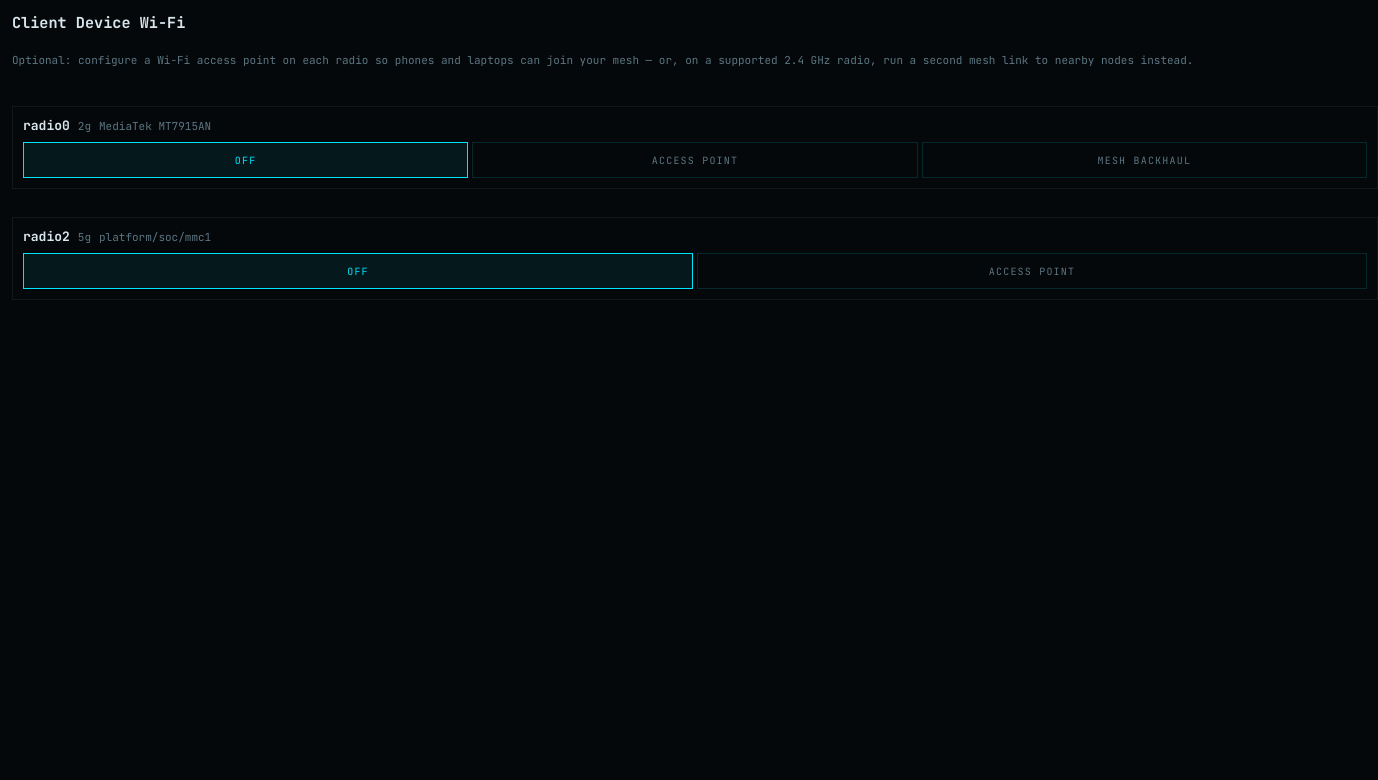
Test case: StepAPsBackhaulTuning › updates the footprint when the operator picks 20 MHz on channel 1
Click the radio button labelled "Mesh backhaul" at (1144,160), box x1=922 y1=142 x2=1367 y2=178
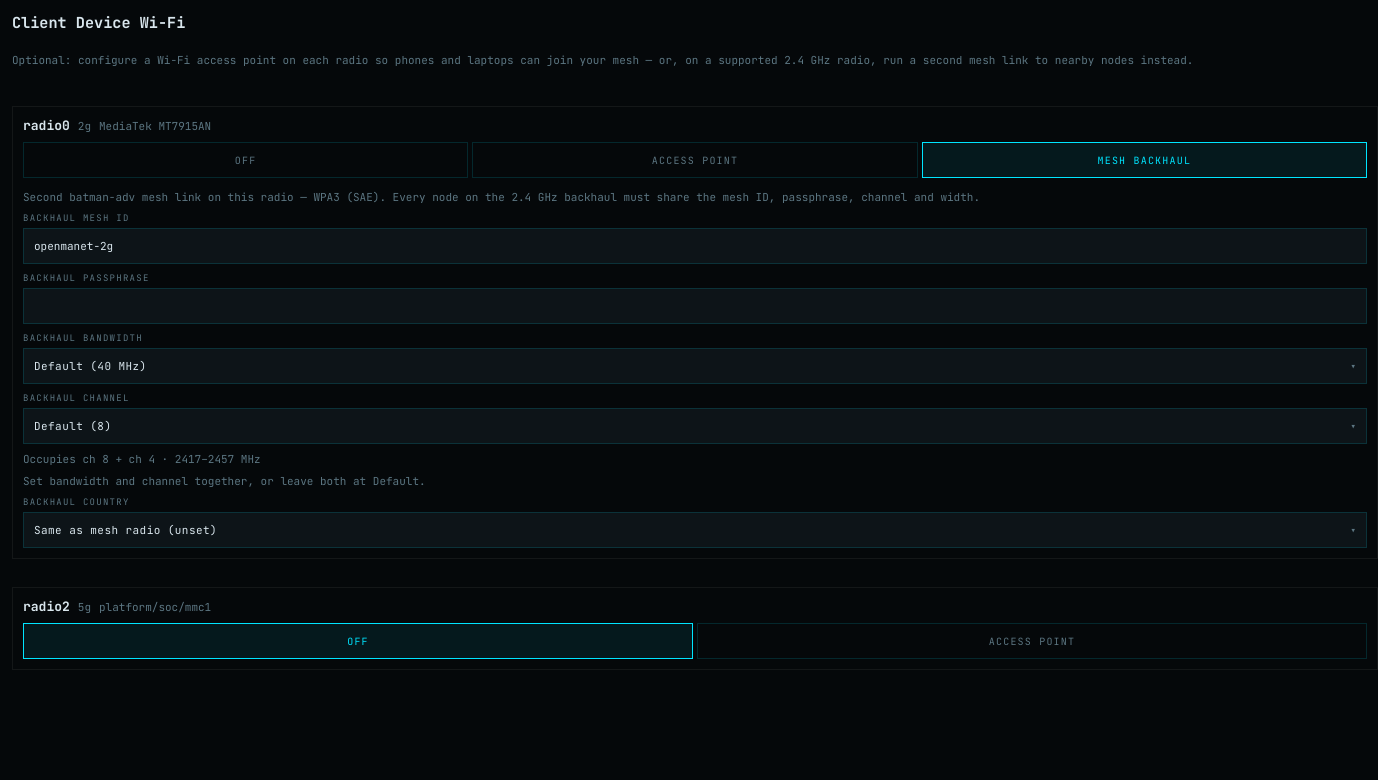
Click the button with aria-label "Backhaul bandwidth" at (90,366), box x1=23 y1=348 x2=1367 y2=384
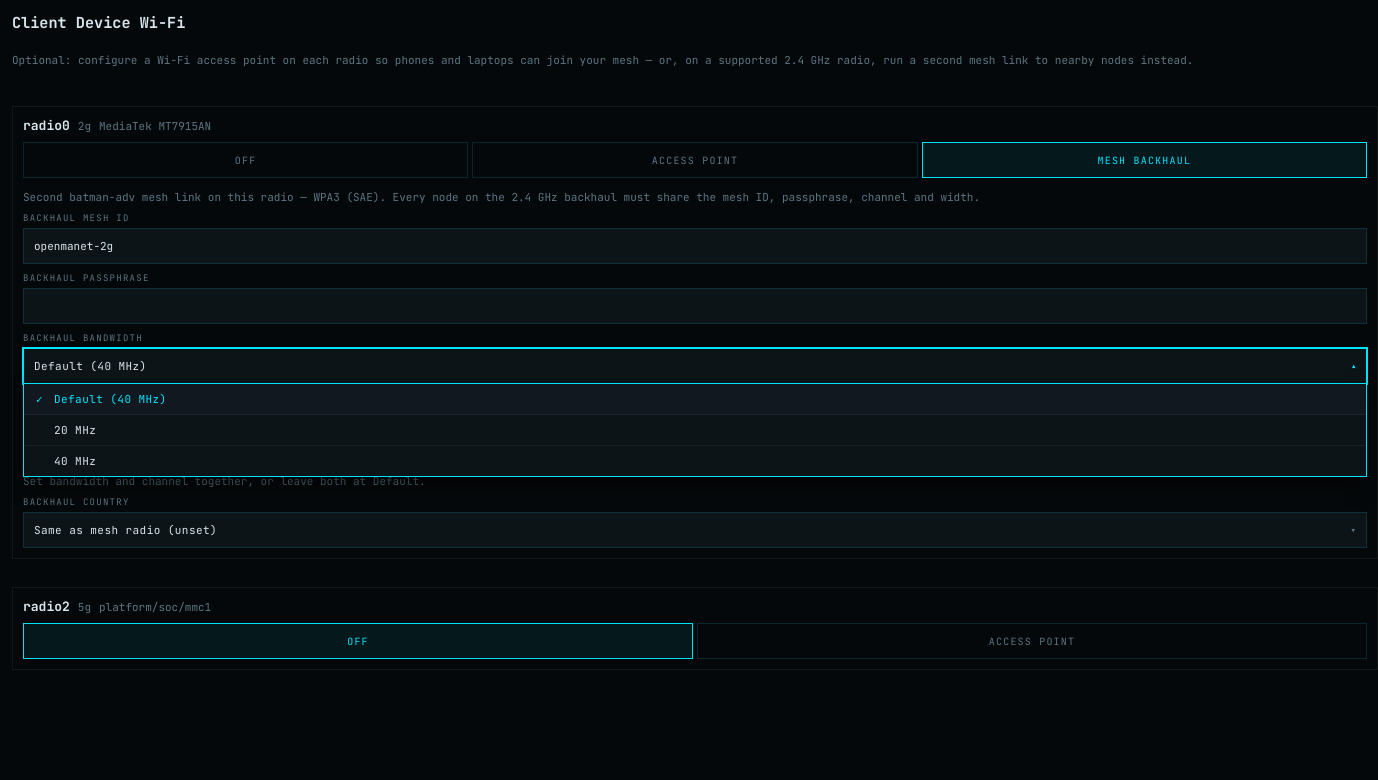
Click the option "20 MHz" at (75,430), box x1=24 y1=415 x2=1366 y2=446
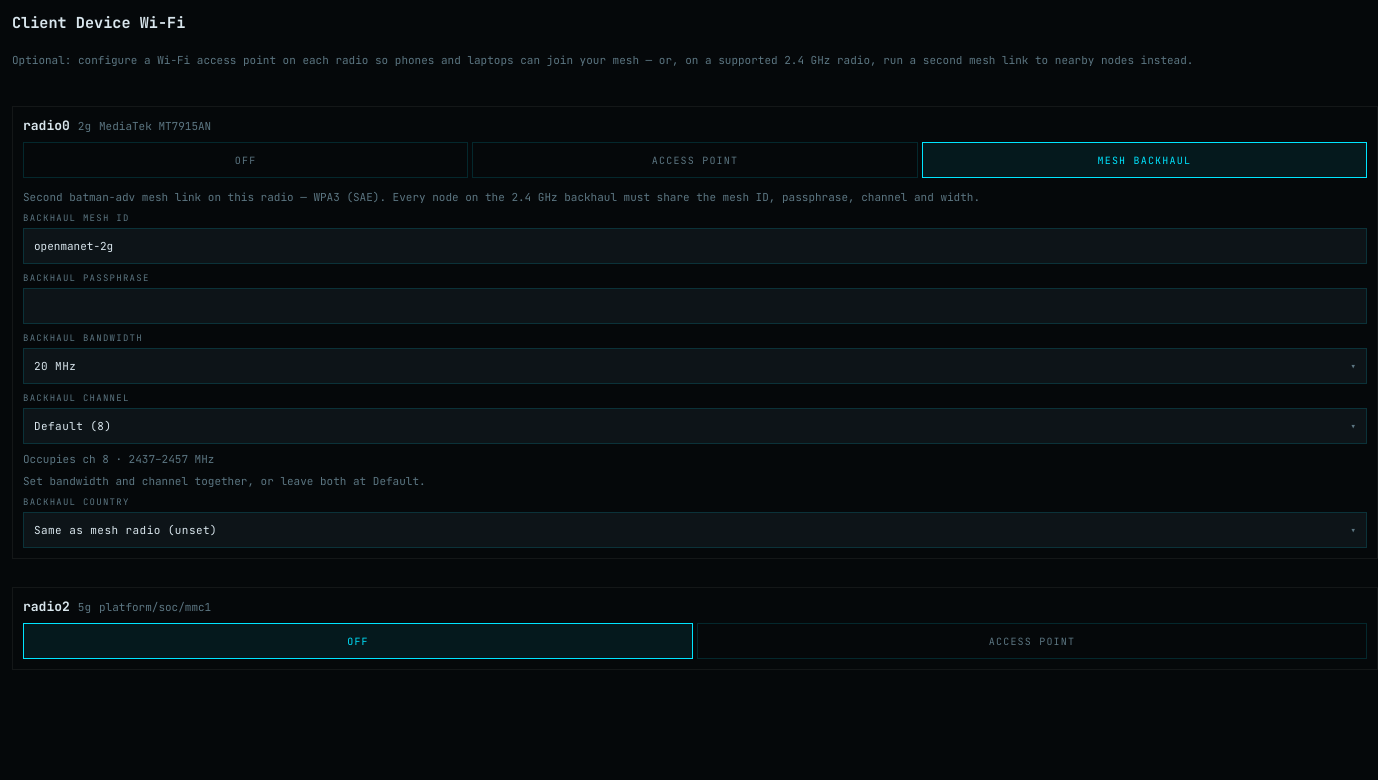
Click the button with aria-label "Backhaul channel" at (73,426), box x1=23 y1=408 x2=1367 y2=444
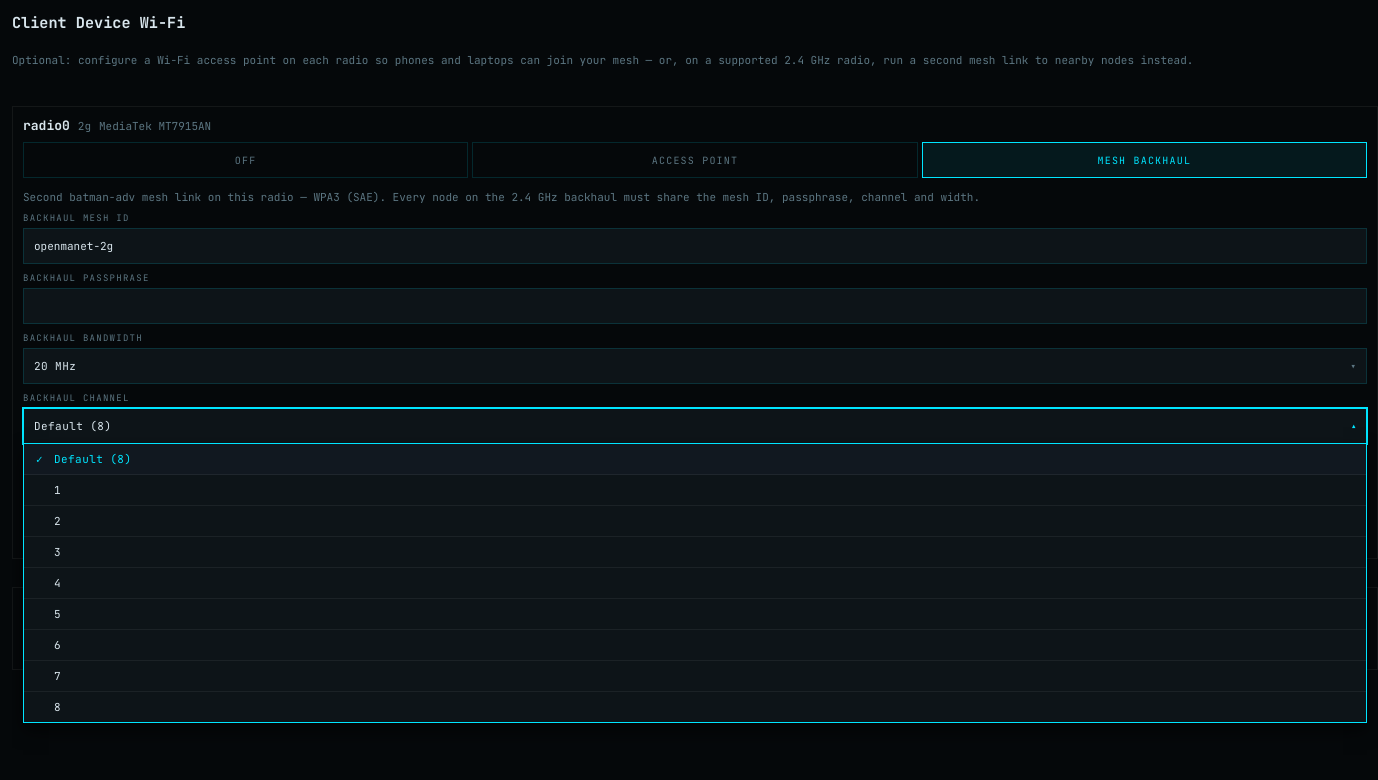
Click the option "1" at (58,490), box x1=24 y1=475 x2=1366 y2=506
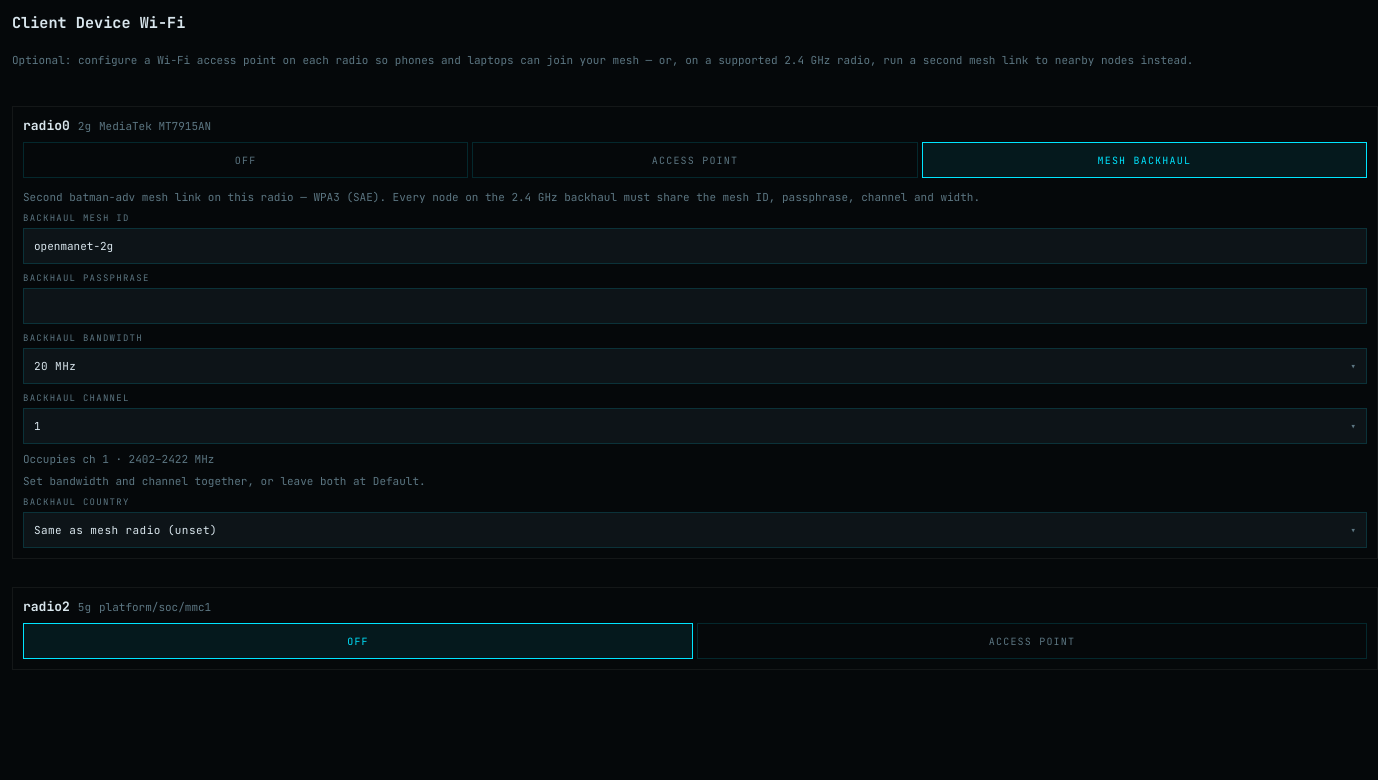
Now the text "Occupies ch 1 · 2402–2422 MHz" is shown, box x1=23 y1=452 x2=214 y2=466
